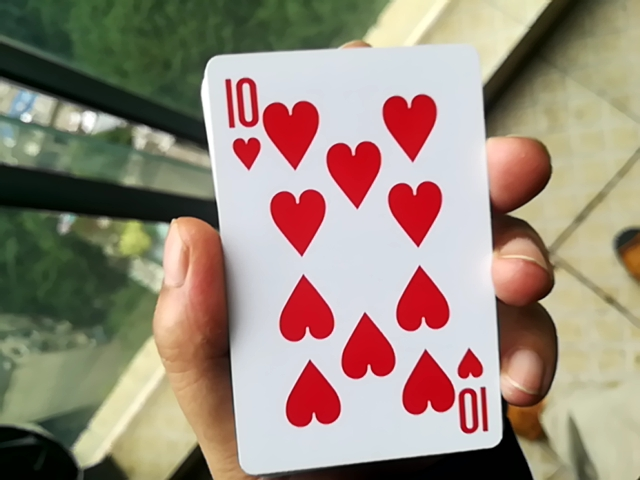hx 10: (194, 45, 503, 476)
